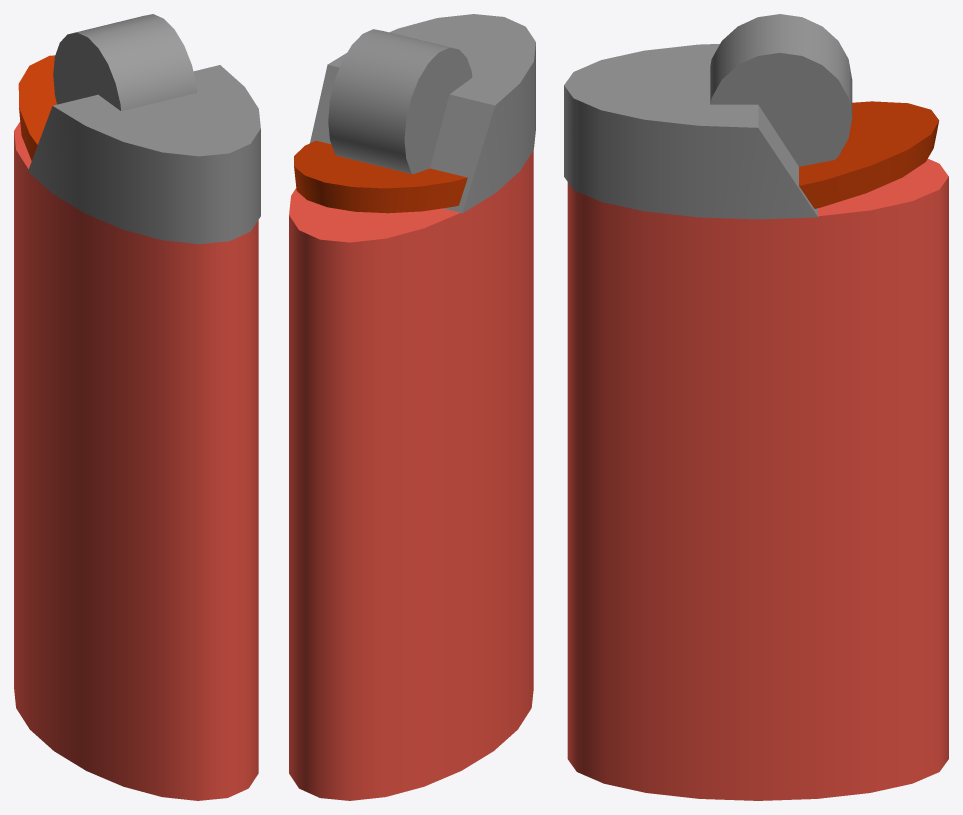
File: Lighter_Blockout.fbx
3 renders of one model, left to right at view 1: azimuth 30°, elevation 25°; view 2: azimuth 150°, elevation 25°; view 3: azimuth 270°, elevation 25°, orthographic. The views are drawn at different scales.
Visible parts, largest first — view 1: pCylinder1, pCylinder2, pCylinder3, pCylinder4; view 2: pCylinder1, pCylinder2, pCylinder3, pCylinder4; view 3: pCylinder1, pCylinder2, pCylinder3, pCylinder4.
Part boxes in pixels (bbox=[...]): pCylinder1: bbox=[14, 121, 258, 800]; pCylinder2: bbox=[28, 65, 260, 244]; pCylinder3: bbox=[53, 14, 197, 111]; pCylinder4: bbox=[18, 55, 56, 160]; pCylinder1: bbox=[289, 150, 533, 800]; pCylinder2: bbox=[310, 14, 535, 213]; pCylinder3: bbox=[328, 29, 472, 174]; pCylinder4: bbox=[294, 140, 467, 213]; pCylinder1: bbox=[567, 159, 948, 800]; pCylinder2: bbox=[564, 44, 818, 219]; pCylinder3: bbox=[710, 14, 852, 166]; pCylinder4: bbox=[799, 101, 939, 208].
Size of the model in its own units: 5.69 by 22.55 by 10.84.
